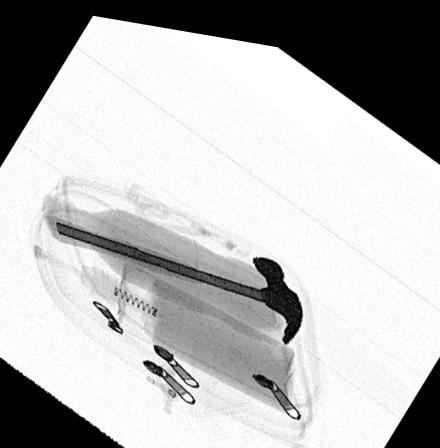Hammer: (45, 212, 303, 337)
